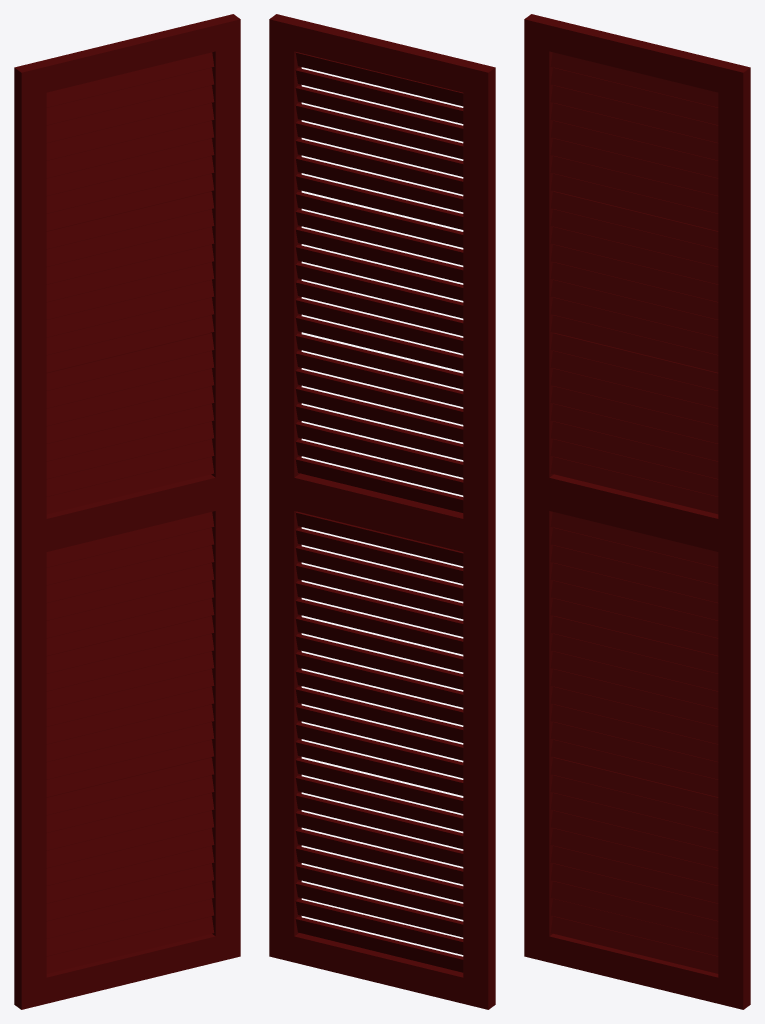
File: window-shutter.obj
3 views of the same model, side by side, from view 1: azimuth 30°, elevation 25°; view 2: azimuth 150°, elevation 25°; view 3: azimuth 330°, elevation 25° (orthographic).
Visible parts, largest first — view 1: shutter; view 2: shutter; view 3: shutter.
Part boxes in pixels (left/top/right/bottom): shutter: left=14, top=14, right=240, bottom=1009; shutter: left=269, top=14, right=495, bottom=1009; shutter: left=524, top=14, right=750, bottom=1009.
Bounding box in the file's own units: 3.61 × 14.74 × 0.2058.
